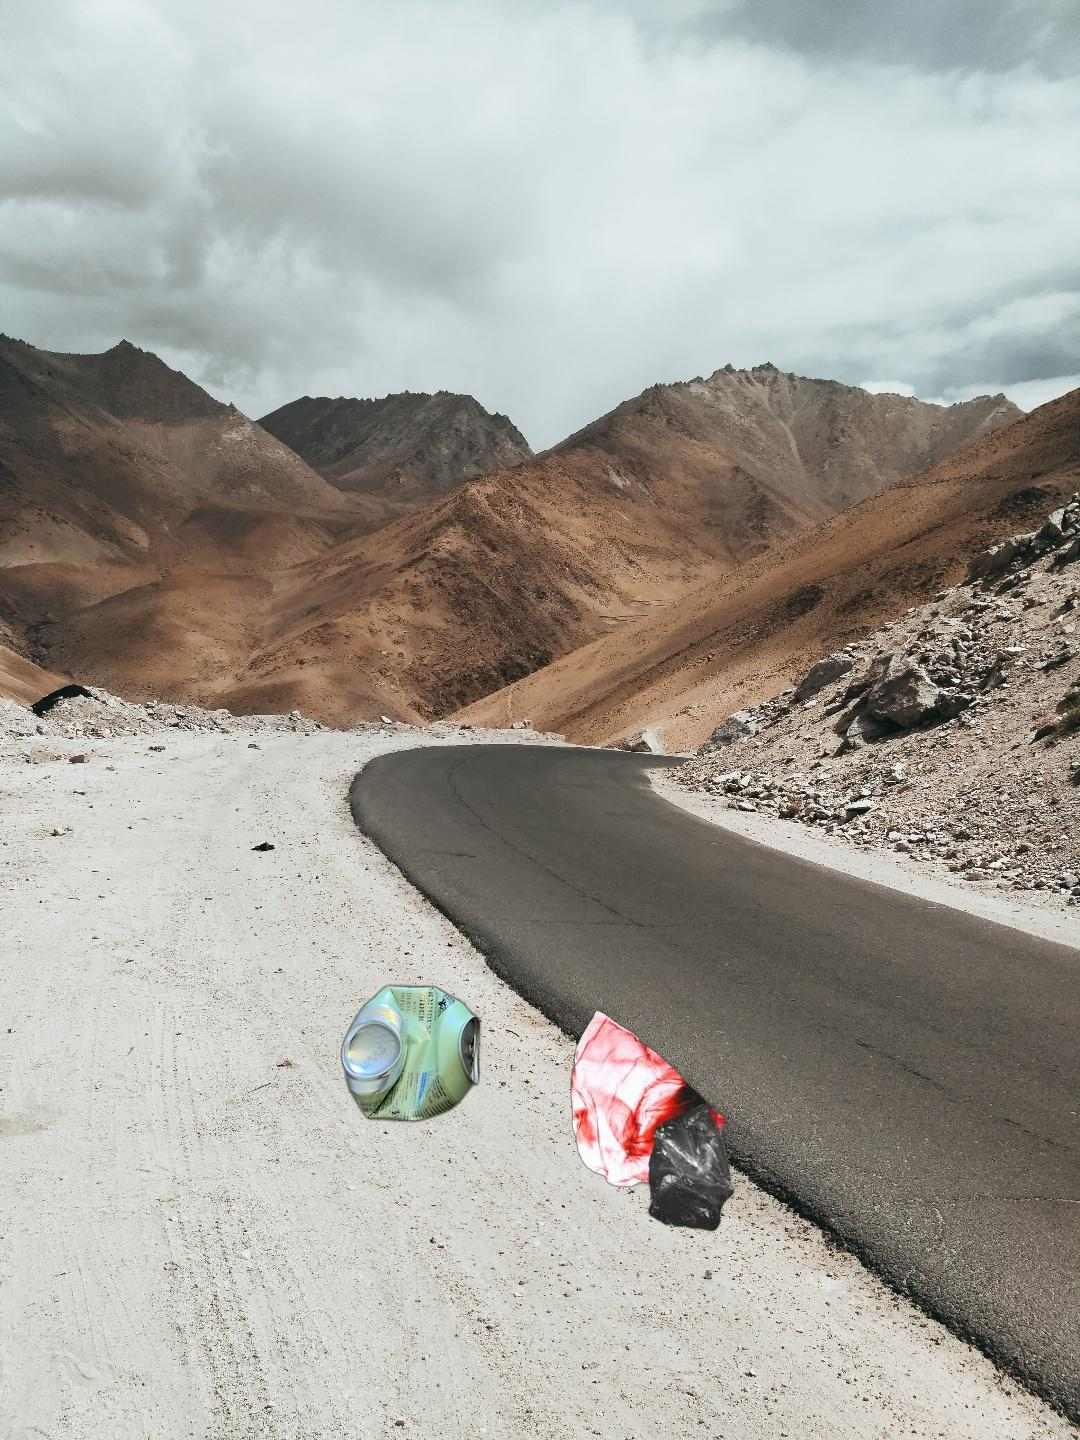metal-cans: (337, 980, 486, 1128)
plastic-bag: (568, 1009, 739, 1233), (1051, 251, 1080, 522)
